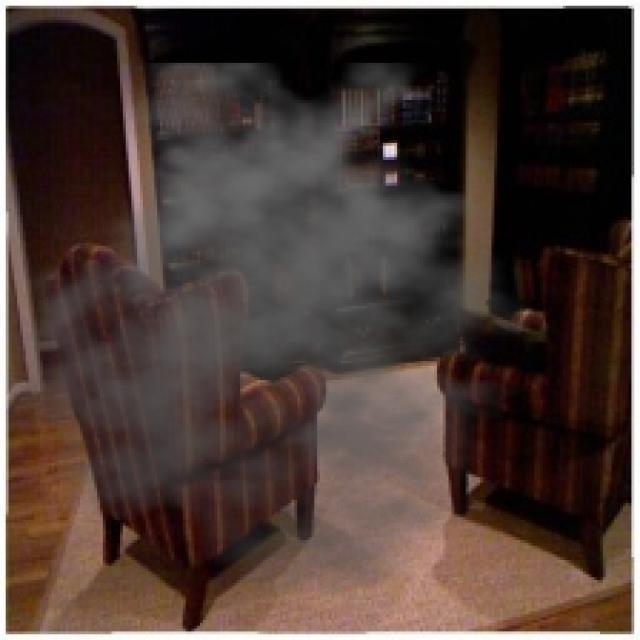Smoke: (2, 62, 568, 598)
